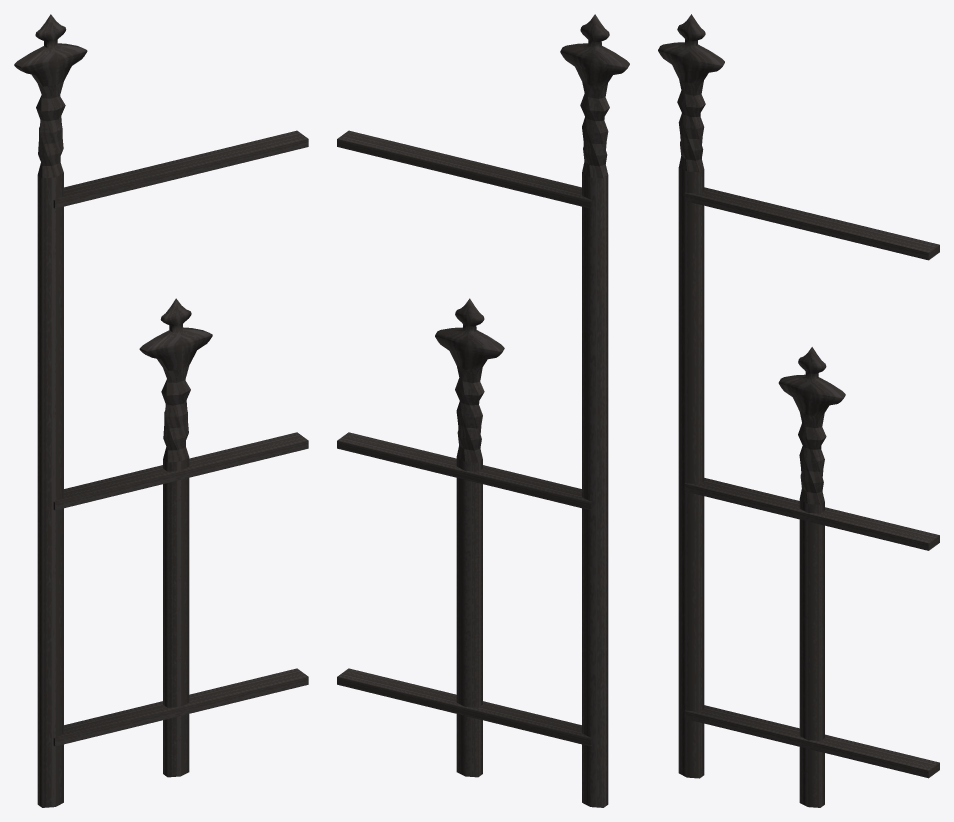
The model's file is pr_fence.glb.
3 views of the same model, side by side, from view 1: azimuth 30°, elevation 25°; view 2: azimuth 150°, elevation 25°; view 3: azimuth 330°, elevation 25° (orthographic). The views are drawn at different scales.
Visible parts, largest first — view 1: body|Metal.001; view 2: body|Metal.001; view 3: body|Metal.001.
Part boxes in pixels (box(x1,y1,x2,y2)): body|Metal.001: box(14, 14, 308, 807); body|Metal.001: box(337, 14, 629, 807); body|Metal.001: box(658, 14, 939, 807).
Size of the model in its own units: 0.6082 by 1.6 by 0.0425.
1 material, 1 textured.
